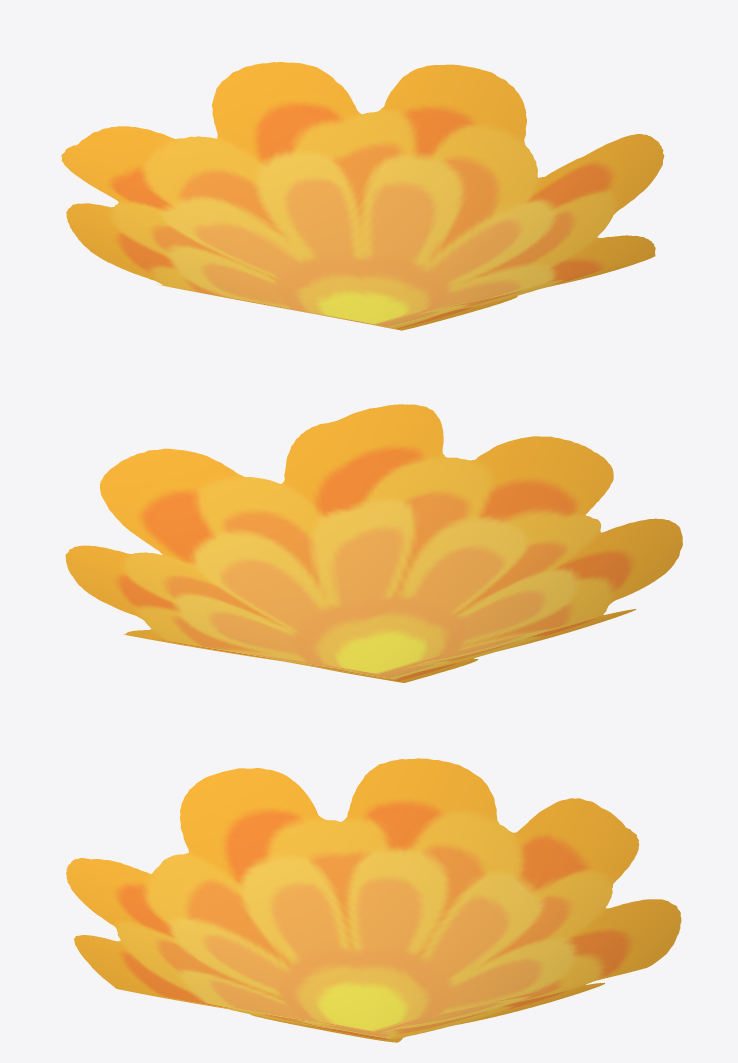
File: Flower_03.FBX
3 renders of one model, top to bottom at view 1: azimuth 30°, elevation 25°; view 2: azimuth 150°, elevation 25°; view 3: azimuth 270°, elevation 25°, orthographic.
Parts seen in each view (by area): view 1: Flower_03; view 2: Flower_03; view 3: Flower_03.
Boxes of the visible parts, box(x1,y1,x2,y2) form: Flower_03: box(61, 62, 664, 330); Flower_03: box(65, 404, 682, 682); Flower_03: box(66, 758, 681, 1042).
Bounding box in the file's own units: 18.55 × 4.06 × 17.09.
